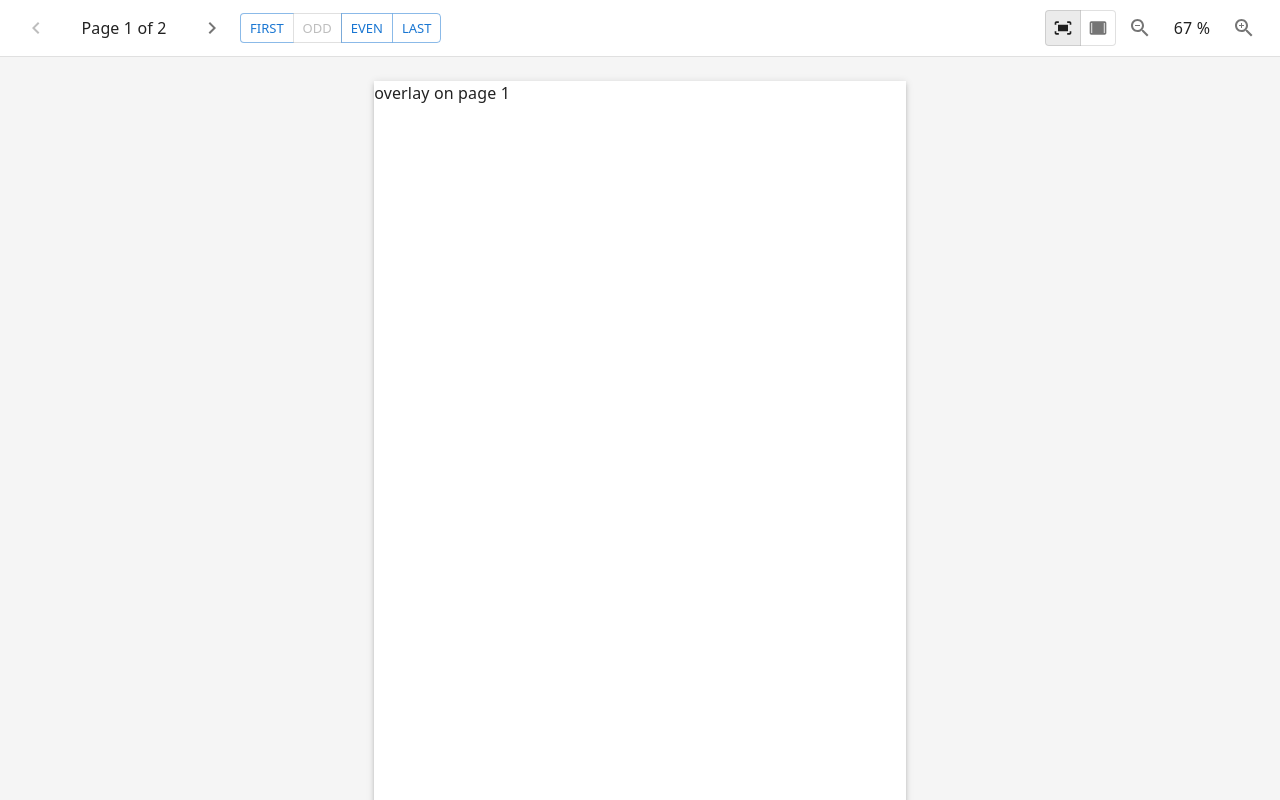
it: PdfViewer › gives an overlay the page, its size in points and the scale
Click the button named "Next page" at (212, 28), box 192,8 -> 232,48
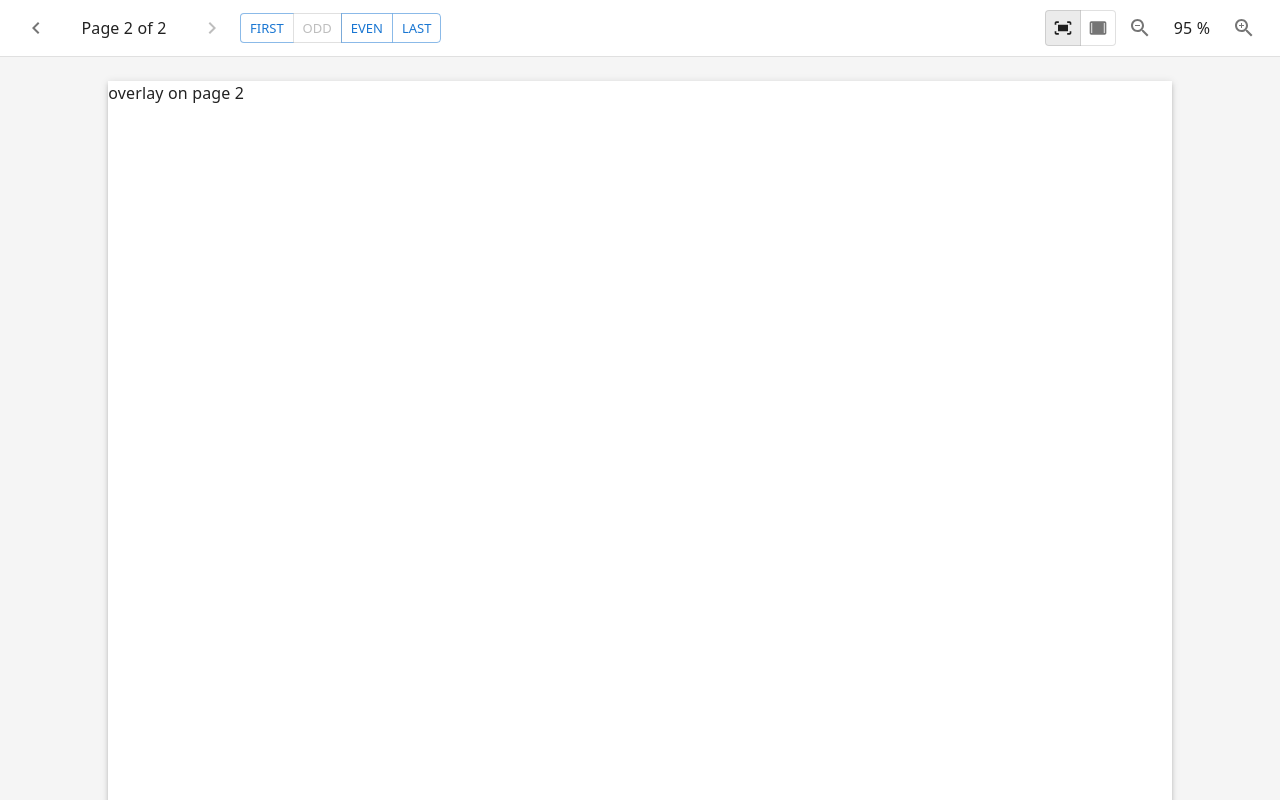
expect the text "overlay on page 2" is shown: met, box 108,82 -> 244,104
